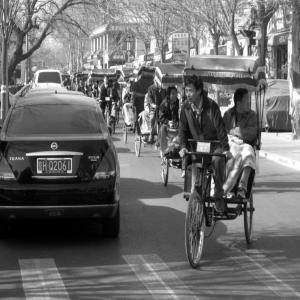Vehicle-registration-plate: (34, 153, 74, 181)
